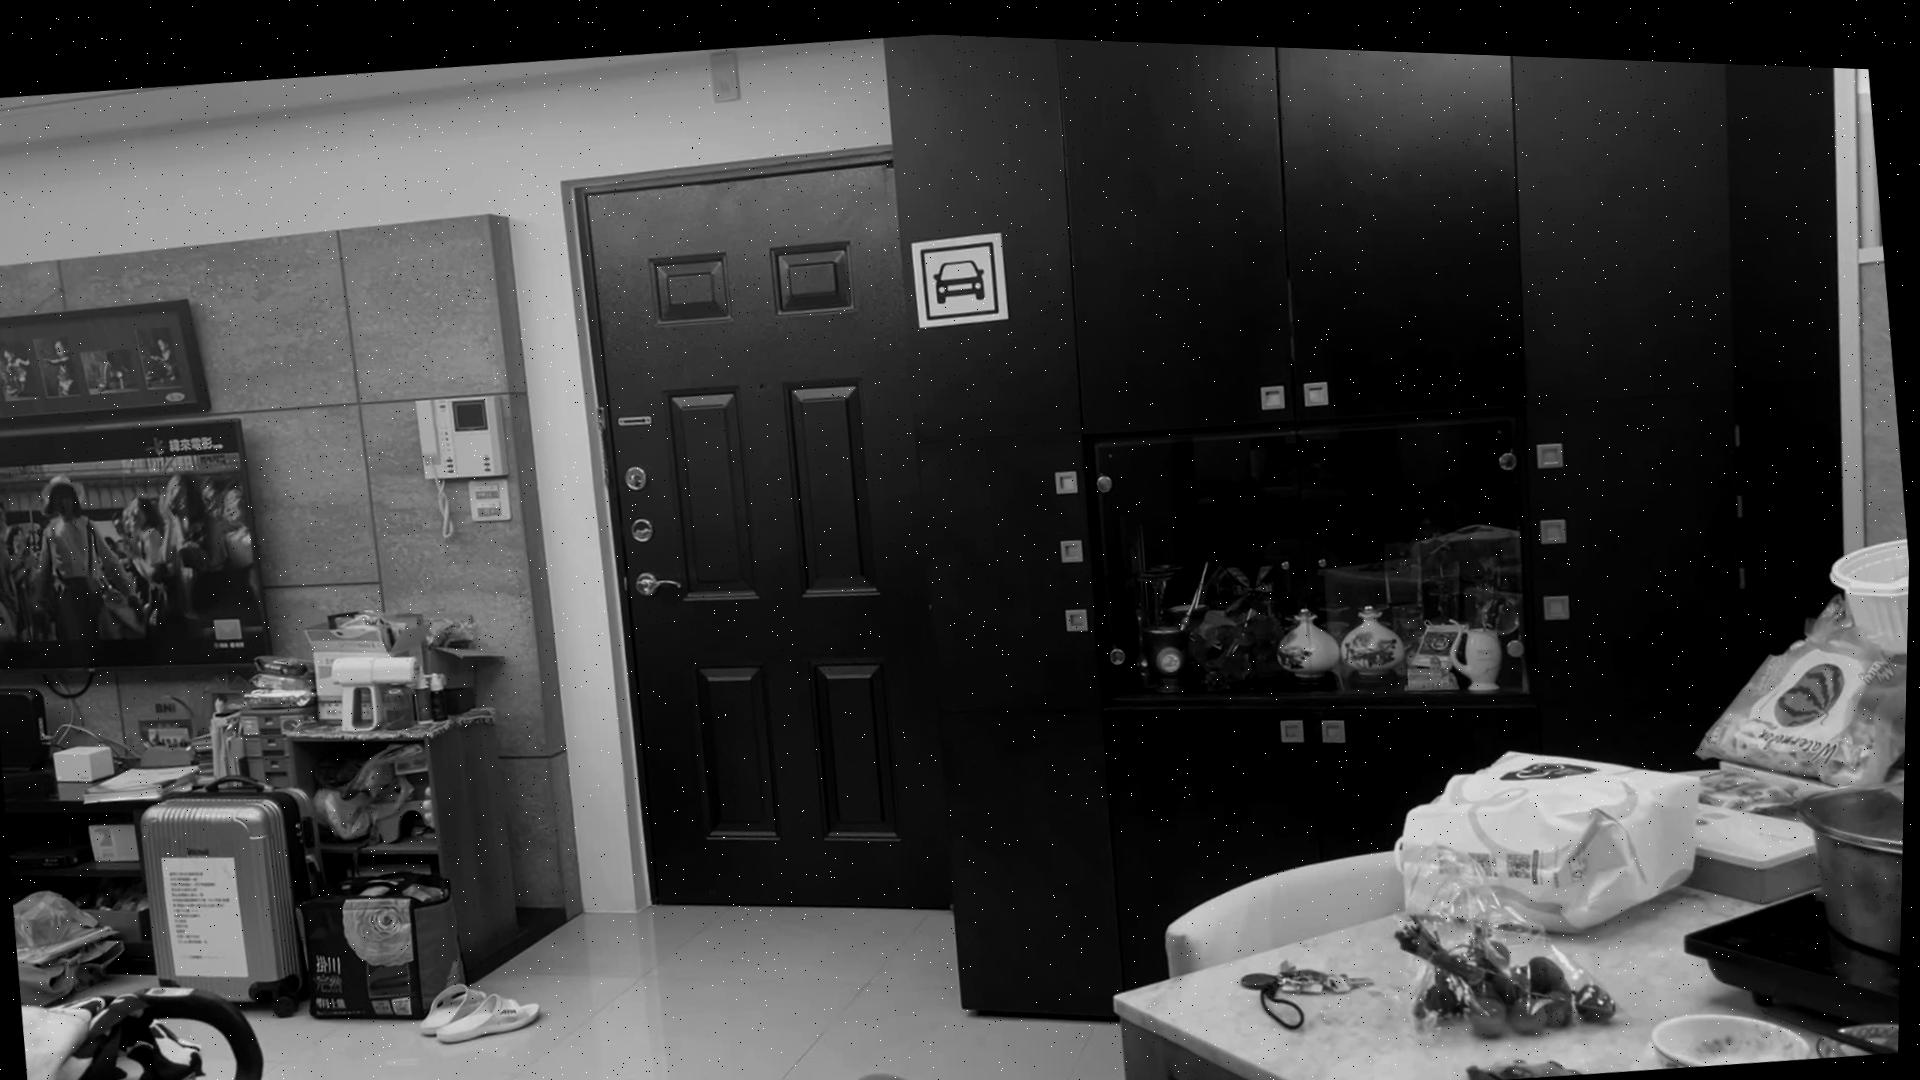car_img: (916, 229, 1005, 318)
